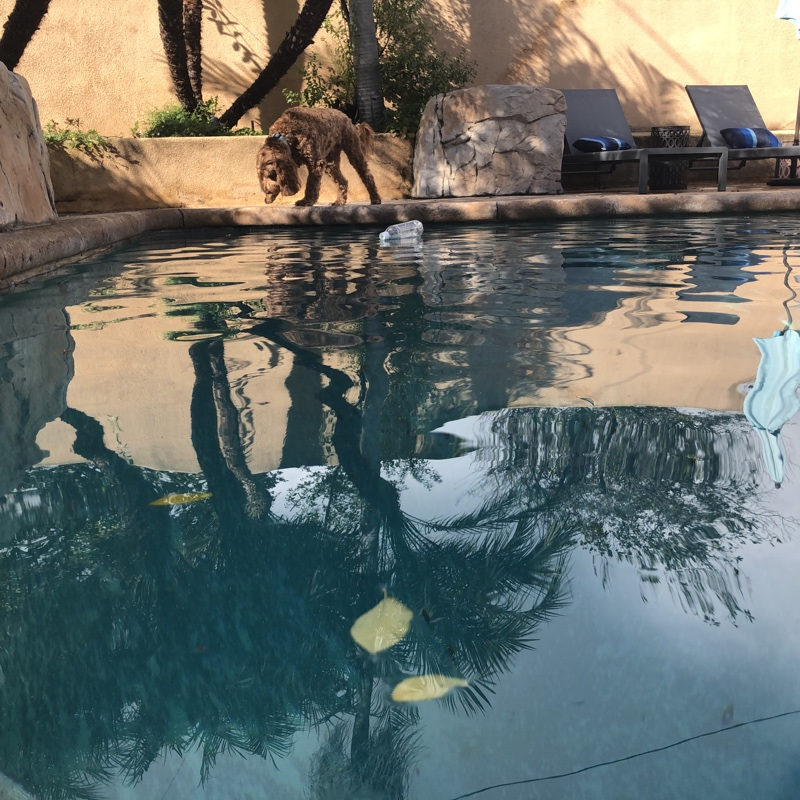Plastic Bottle: (376, 220, 425, 241)
